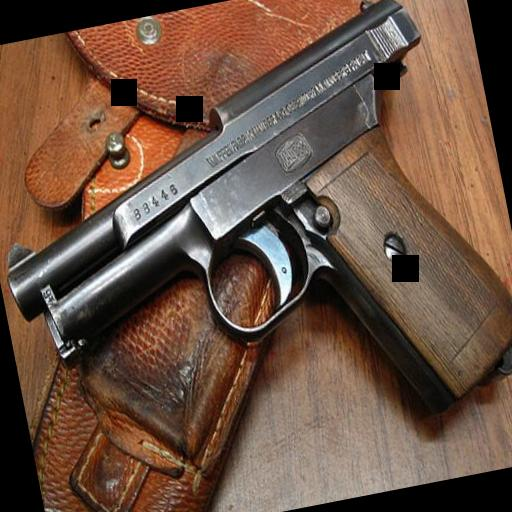Handgun: (0, 0, 512, 490)
